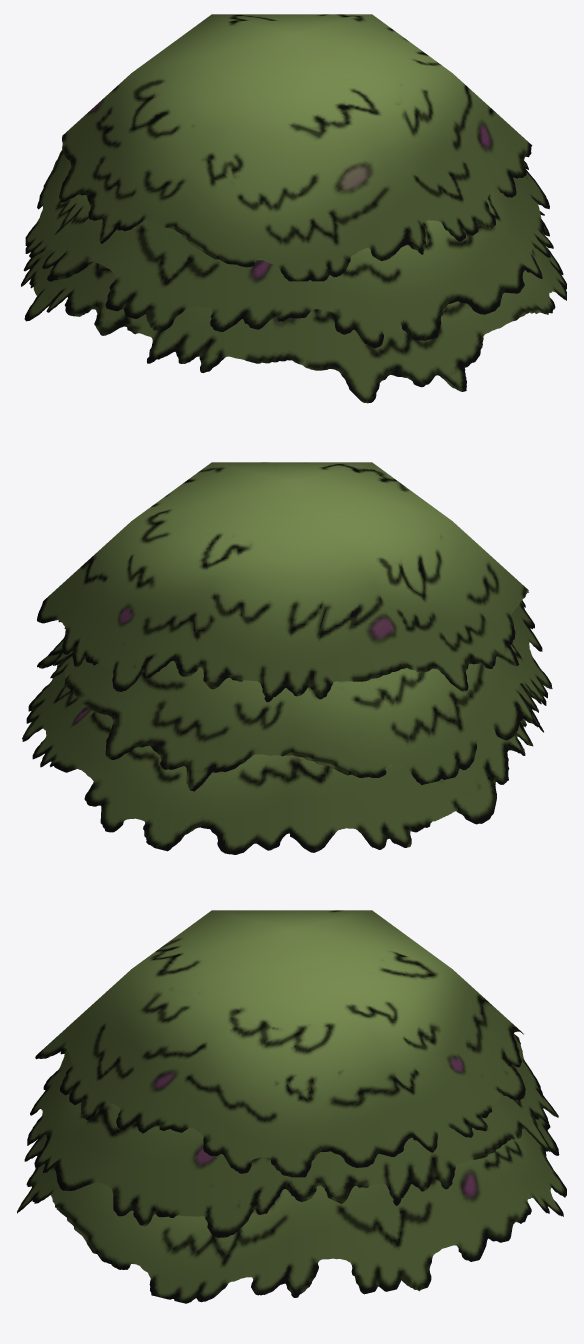
The model's file is Bush_03.fbx.
The picture shows the model from 3 angles, top to bottom: view 1: azimuth 30°, elevation 25°; view 2: azimuth 150°, elevation 25°; view 3: azimuth 270°, elevation 25°; orthographic projection.
Parts seen in each view (by area): view 1: Bush_03; view 2: Bush_03; view 3: Bush_03.
Boxes of the visible parts, x1,y1,x2,y2 form: Bush_03: [21, 14, 566, 403]; Bush_03: [22, 462, 552, 854]; Bush_03: [17, 910, 566, 1303].
Bounding box in the file's own units: 117 × 53.9 × 102.
